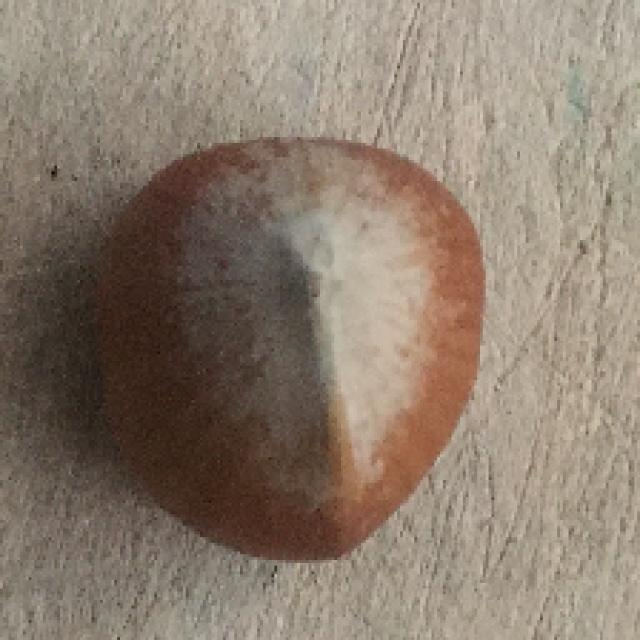QualityHazelnut: (101, 135, 488, 564)
